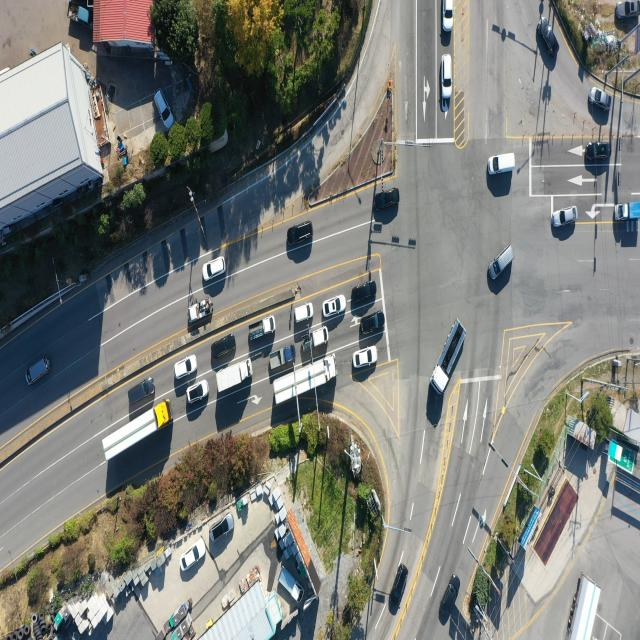car: (177, 539, 206, 575), (488, 246, 514, 283), (440, 577, 461, 622), (208, 334, 237, 363), (390, 565, 408, 611), (155, 90, 175, 130), (128, 376, 155, 404), (26, 356, 50, 386), (541, 22, 561, 56), (288, 223, 315, 248), (487, 154, 515, 178), (352, 346, 378, 370), (212, 517, 234, 545), (203, 258, 227, 283), (351, 280, 377, 303), (552, 206, 578, 228), (442, 54, 454, 101), (175, 354, 198, 378), (360, 311, 384, 334), (322, 296, 345, 319), (186, 380, 208, 404), (590, 88, 612, 111), (586, 141, 611, 161), (375, 190, 398, 211), (616, 0, 640, 20), (293, 301, 313, 322), (444, 0, 454, 32)
medium_truck: (101, 399, 171, 463), (269, 352, 337, 404), (431, 319, 467, 396), (564, 577, 601, 640), (214, 358, 252, 393)
small_truck: (277, 568, 304, 600), (249, 314, 277, 341), (265, 342, 294, 368), (301, 328, 330, 352), (615, 200, 640, 227), (67, 0, 90, 27), (189, 298, 212, 324)
